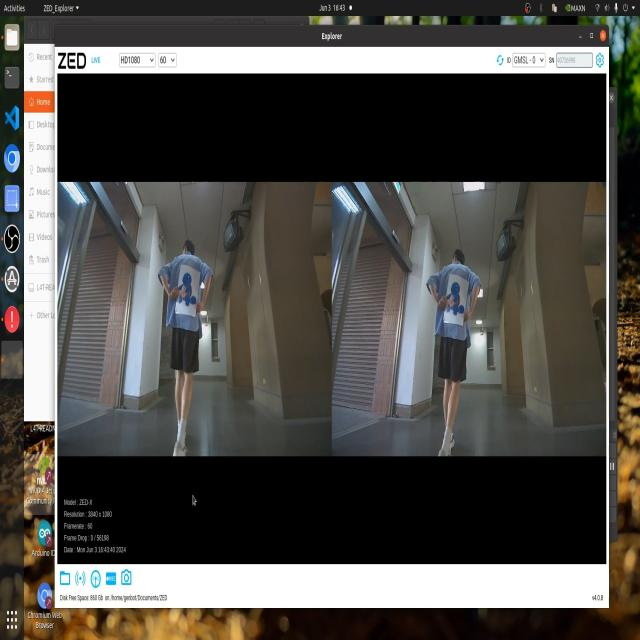blue: (442, 274, 471, 328), (178, 266, 198, 310)
